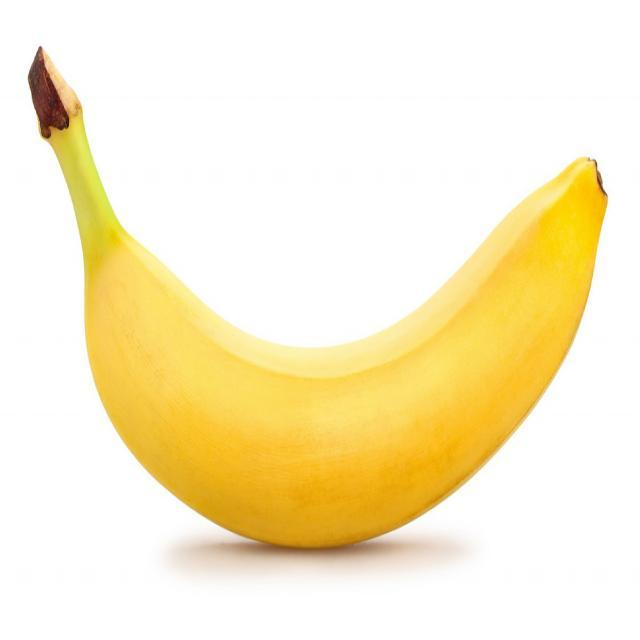Banana: (26, 52, 614, 552)
